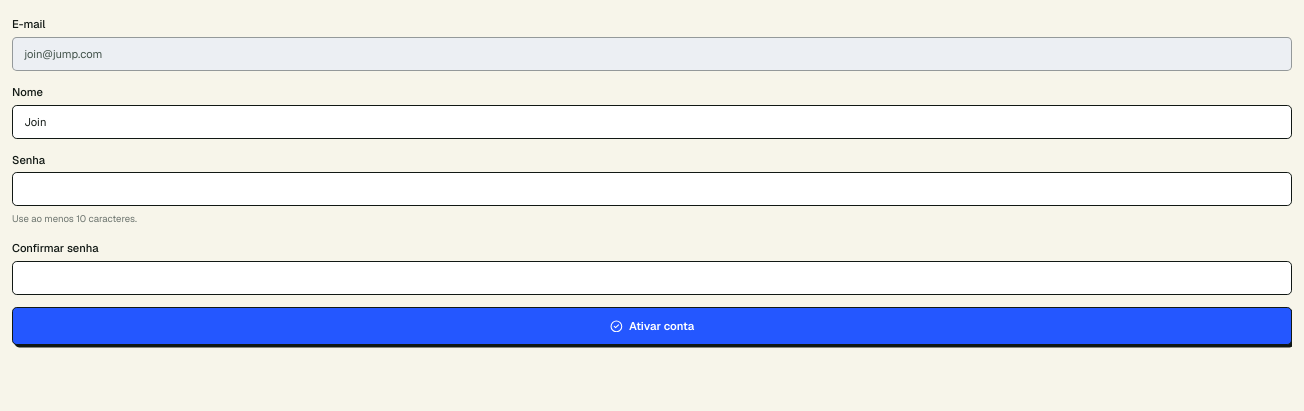
Test case: AcceptInviteForm — submit flow › shows the server's neutral message and does not redirect on failure
The width and height of the screenshot is (1304, 411).
Type "uma-senha-bem-longa" into the password field labelled "Senha".
click(652, 189); type("uma-senha-bem-longa")  # box x1=12 y1=172 x2=1292 y2=206
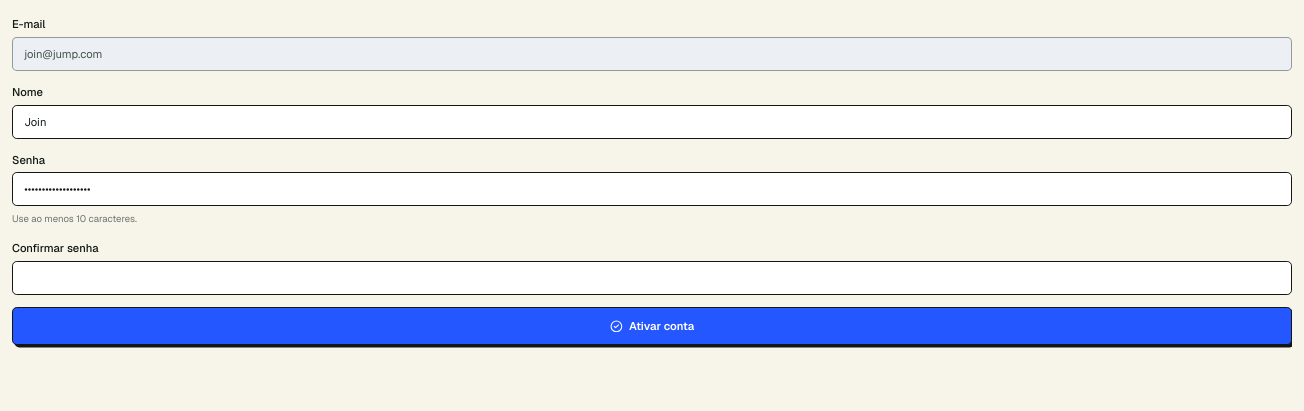
Type "uma-senha-bem-longa" into the password field labelled "Confirmar senha".
click(652, 278); type("uma-senha-bem-longa")  # box x1=12 y1=261 x2=1292 y2=295
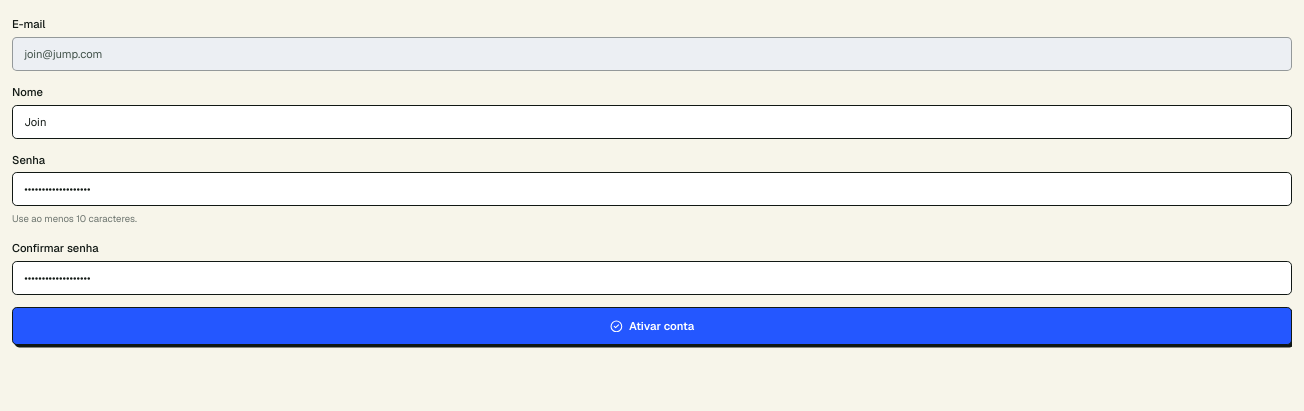
Submit the form "Ativar conta"
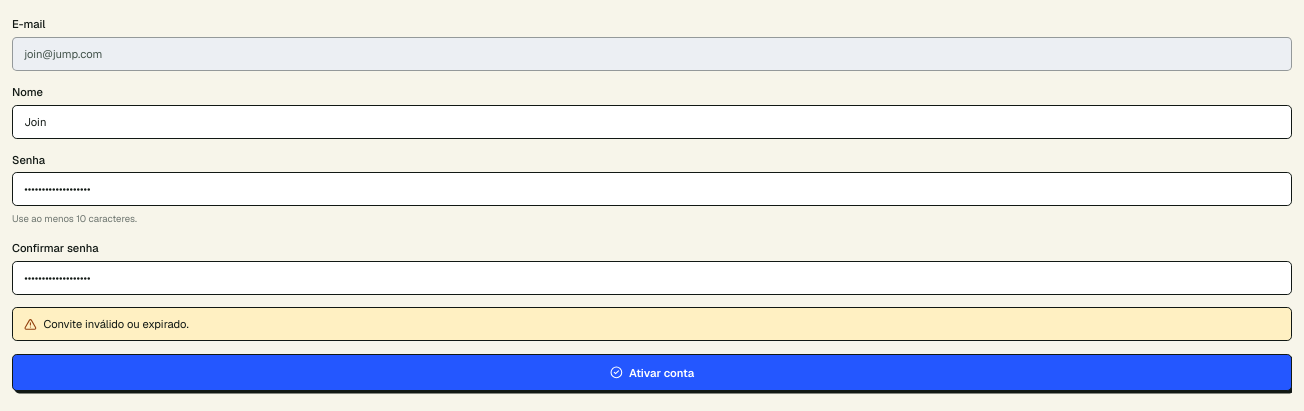
Now the message reads "Convite inválido ou expirado.", box x1=43 y1=317 x2=189 y2=331
